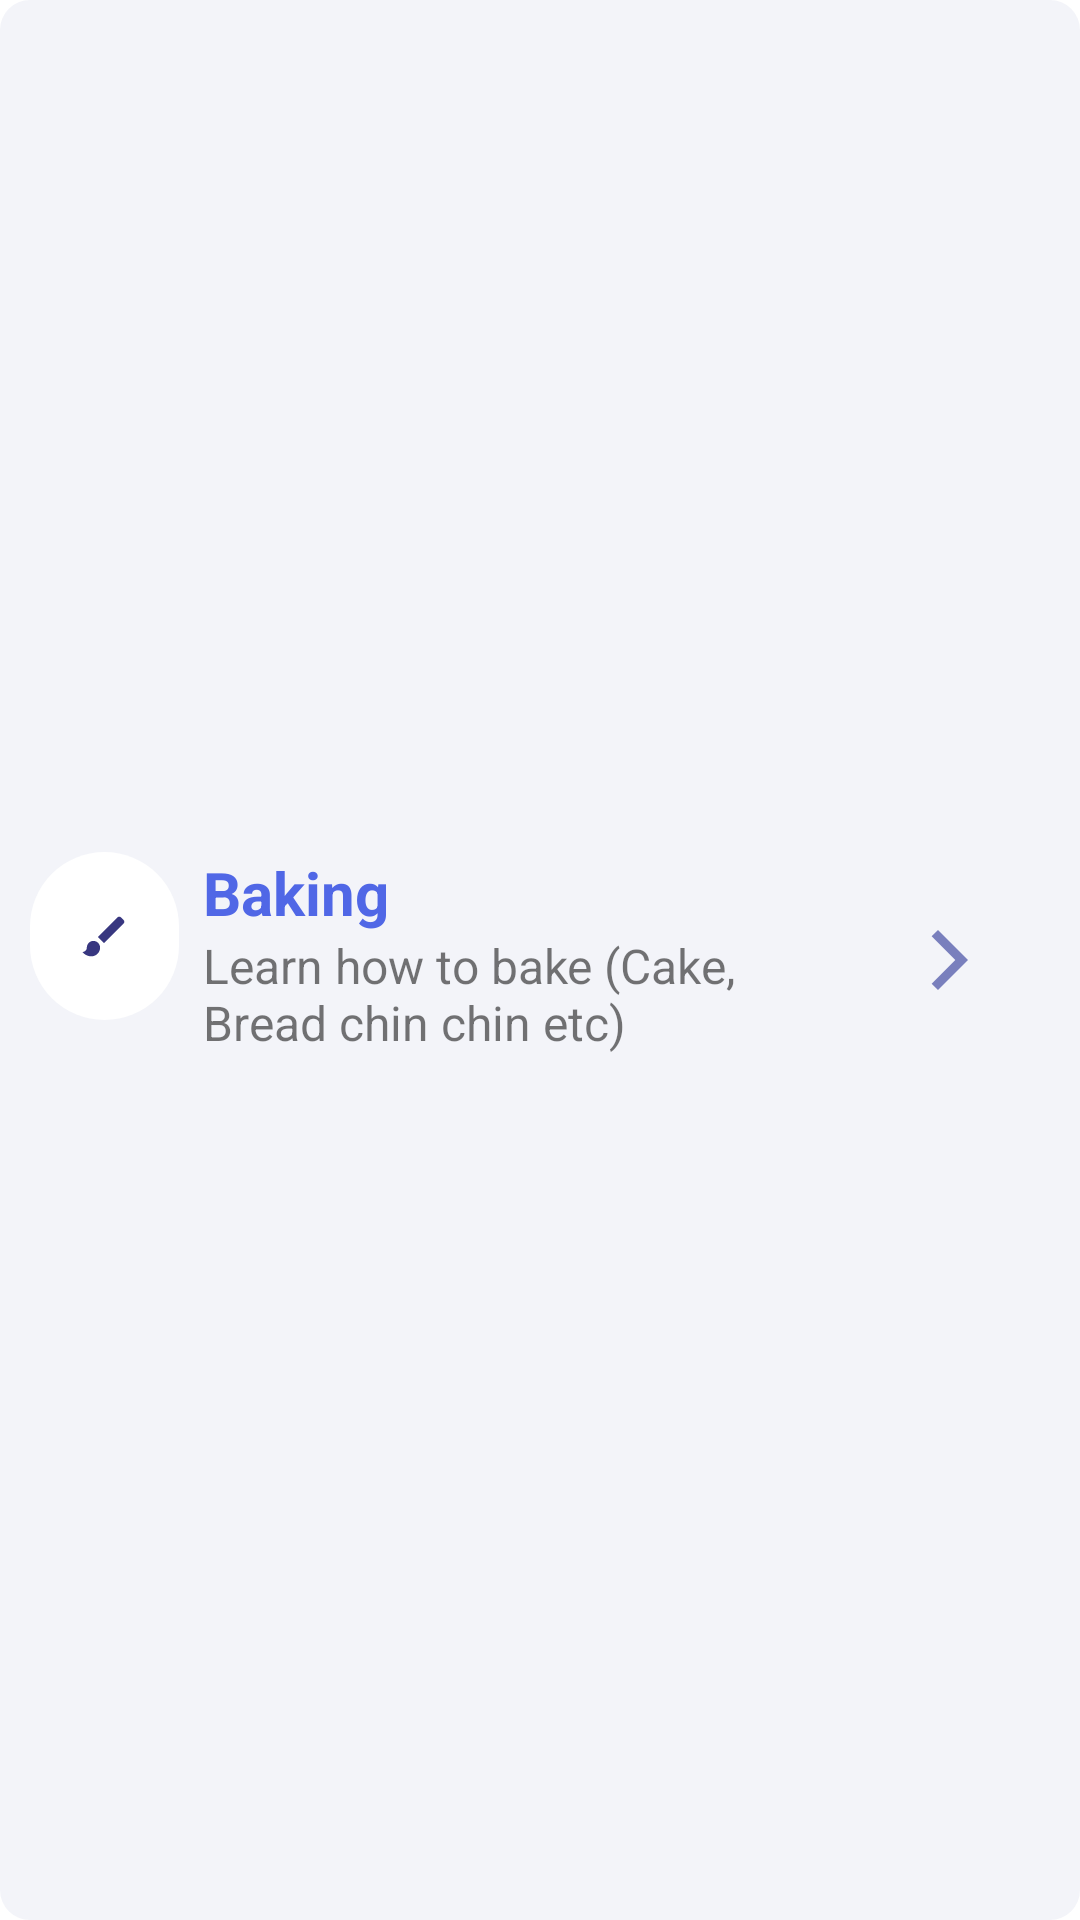

Icons on this 1080 x 1920 Android screen, each with its box as (x1, y1, x2, y2):
arrow forward: (932, 930, 968, 990)
brush: (82, 916, 125, 957)
